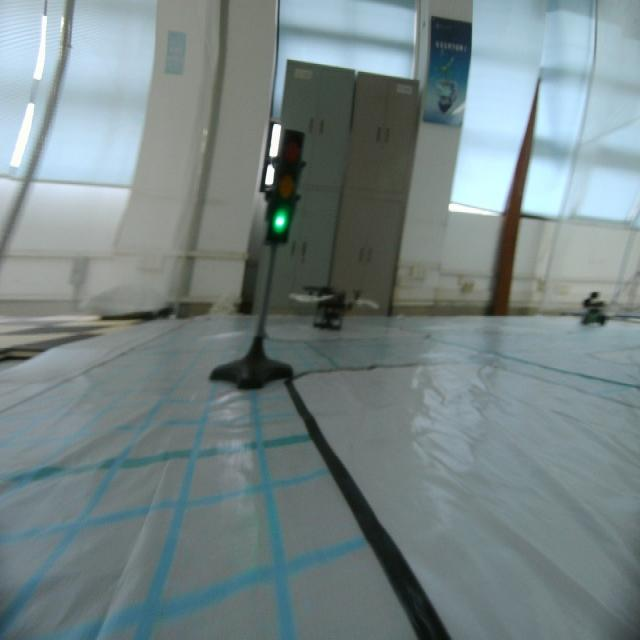green: (270, 126, 304, 245)
